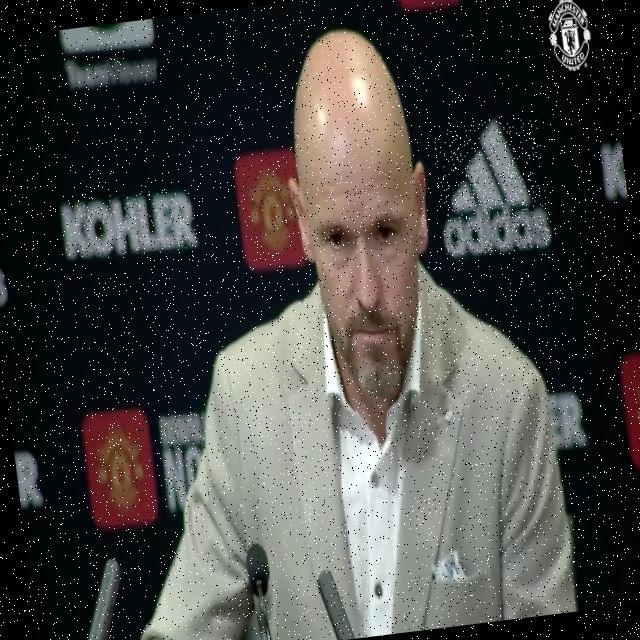Adidas: (430, 111, 553, 257)
Kohler: (59, 185, 199, 264)
TeamViewer: (60, 19, 158, 91)
